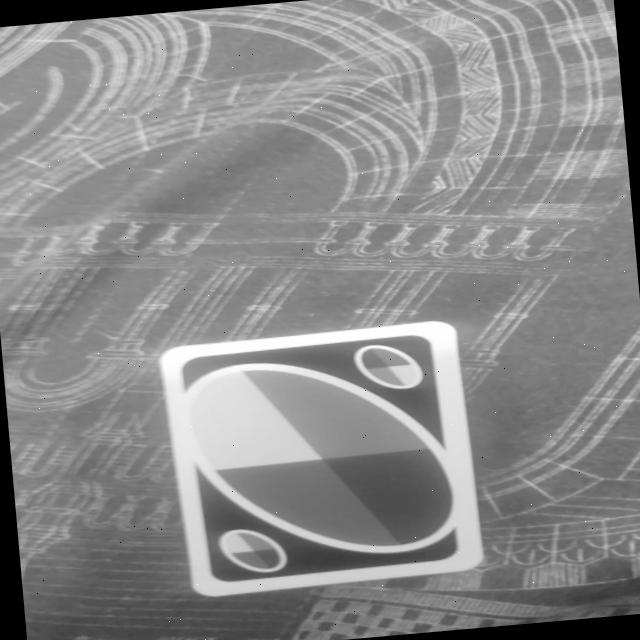wild_card: (158, 316, 487, 600)
